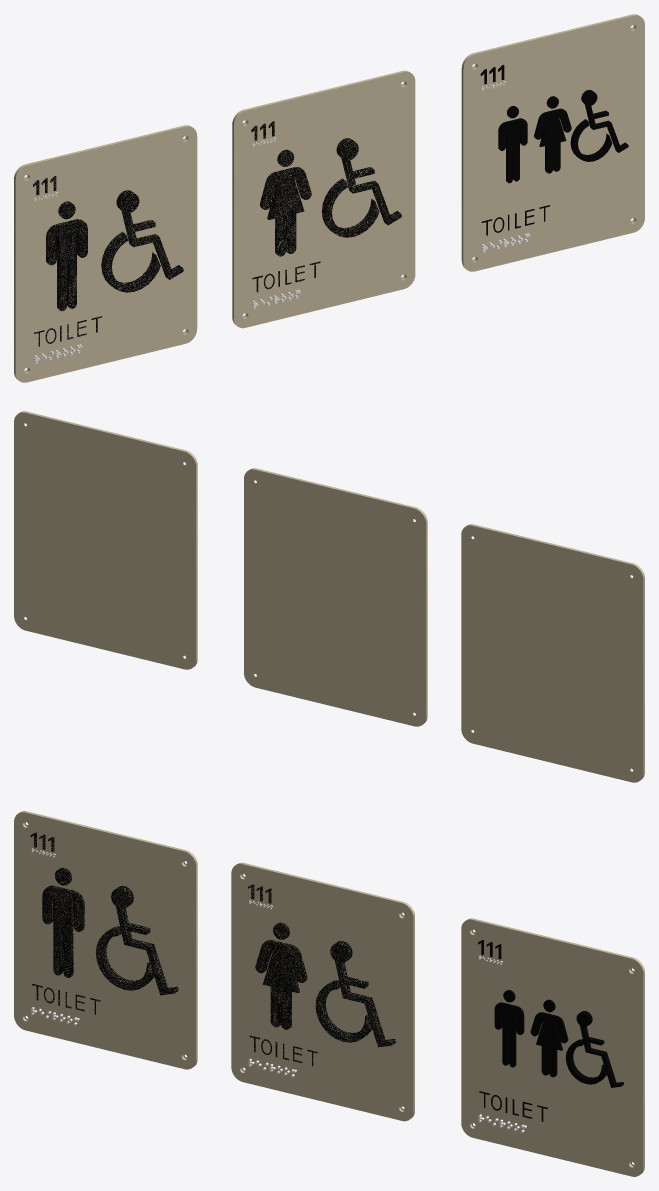
File: (FINISHES-SIGNS)-RESTROOM-SIGNAGE.dae
3 renders of one model, top to bottom at view 1: azimuth 30°, elevation 25°; view 2: azimuth 150°, elevation 25°; view 3: azimuth 330°, elevation 25°, orthographic.
Visible parts, largest first — view 1: UNISEX_HANDICAP_SIGNAGE, MAN_HANDICAP_SIGNAGE, WOMAN_HANDICAP_SINAGE, WOMAN_WHEELCHAIR (×3), MAN_WHEELCHAIR (×3), MAN_WOMAN_WHEELCHAIR (×4); view 2: UNISEX_HANDICAP_SIGNAGE (×2), MAN_HANDICAP_SIGNAGE, WOMAN_HANDICAP_SINAGE; view 3: UNISEX_HANDICAP_SIGNAGE, MAN_HANDICAP_SIGNAGE, WOMAN_HANDICAP_SINAGE, WOMAN_WHEELCHAIR (×3), MAN_WHEELCHAIR (×3), MAN_WOMAN_WHEELCHAIR (×4).
Part boxes in pixels (x1,y1,x2,y2): UNISEX_HANDICAP_SIGNAGE: [461, 14, 644, 271]; MAN_HANDICAP_SIGNAGE: [14, 125, 197, 382]; WOMAN_HANDICAP_SINAGE: [232, 70, 415, 328]; WOMAN_WHEELCHAIR (×3): [260, 138, 401, 256]; MAN_WHEELCHAIR (×3): [46, 190, 183, 311]; MAN_WOMAN_WHEELCHAIR (×4): [498, 90, 628, 183]; UNISEX_HANDICAP_SIGNAGE (×2): [14, 411, 197, 669]; MAN_HANDICAP_SIGNAGE: [461, 524, 644, 782]; WOMAN_HANDICAP_SINAGE: [244, 468, 427, 726]; UNISEX_HANDICAP_SIGNAGE: [461, 918, 644, 1176]; MAN_HANDICAP_SIGNAGE: [14, 811, 197, 1069]; WOMAN_HANDICAP_SINAGE: [231, 862, 414, 1121]; WOMAN_WHEELCHAIR (×3): [255, 940, 395, 1047]; MAN_WHEELCHAIR (×3): [42, 885, 178, 995]; MAN_WOMAN_WHEELCHAIR (×4): [494, 1002, 624, 1087].
Bounding box in the file's own units: 27.26 × 0.4891 × 9.12.
